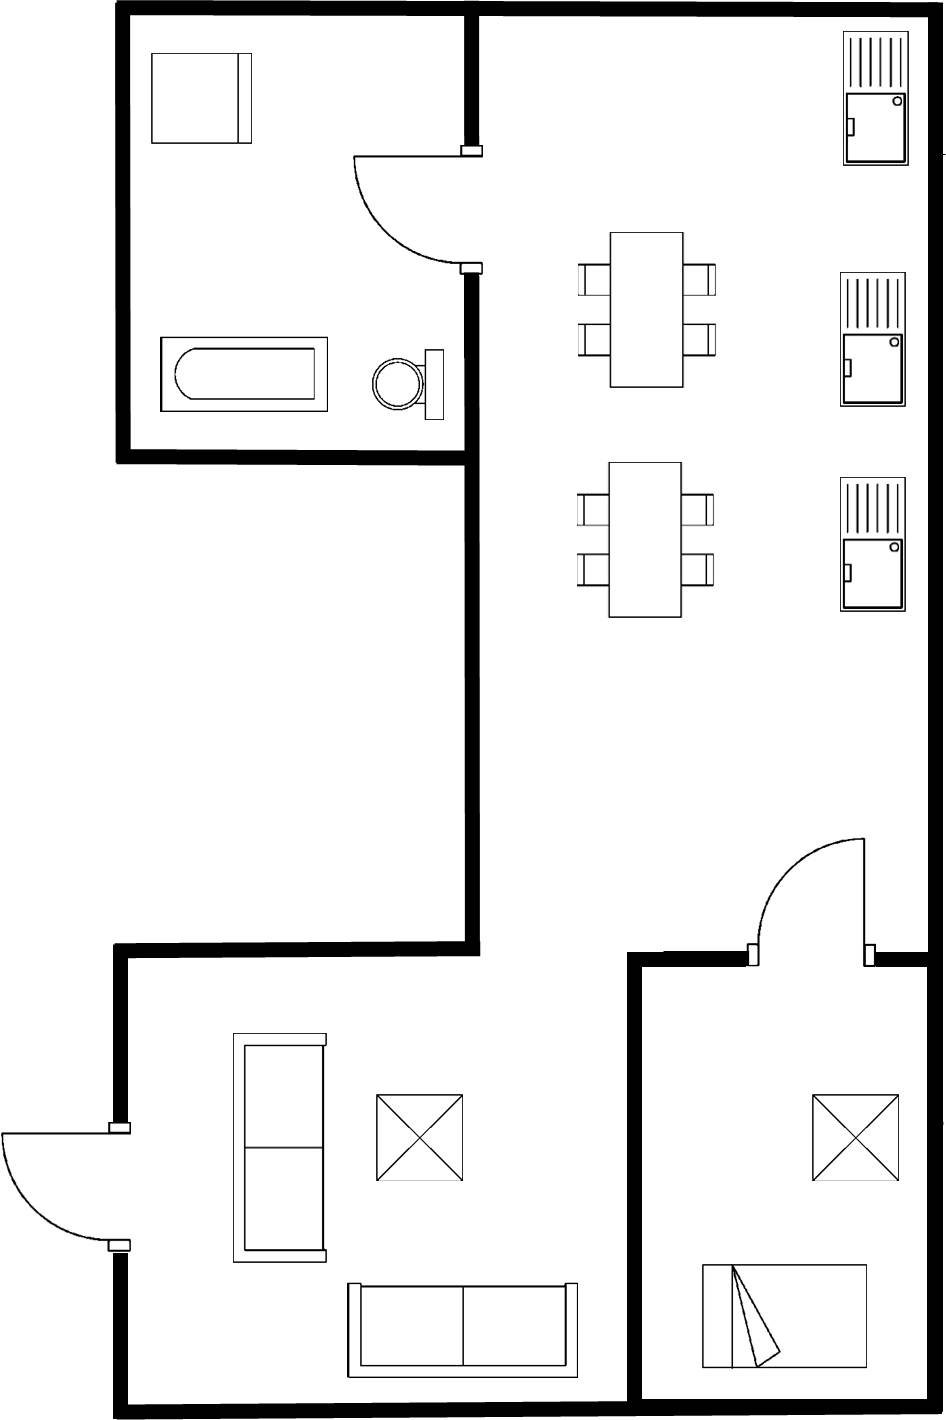bed: (687, 1253, 876, 1382)
coffee_table: (802, 1086, 910, 1193), (367, 1089, 476, 1190)
dining_table: (572, 226, 727, 399), (569, 450, 723, 624)
large_sink: (366, 343, 452, 431)
large_sofa: (220, 1025, 333, 1271), (344, 1276, 583, 1386)
sink: (831, 471, 913, 618), (834, 267, 915, 415), (833, 26, 915, 171)
small_sofa: (144, 43, 263, 154)
tub: (154, 331, 337, 422)
